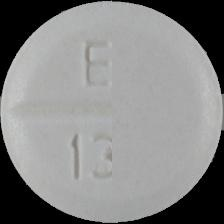69315-136: (0, 0, 224, 224)
